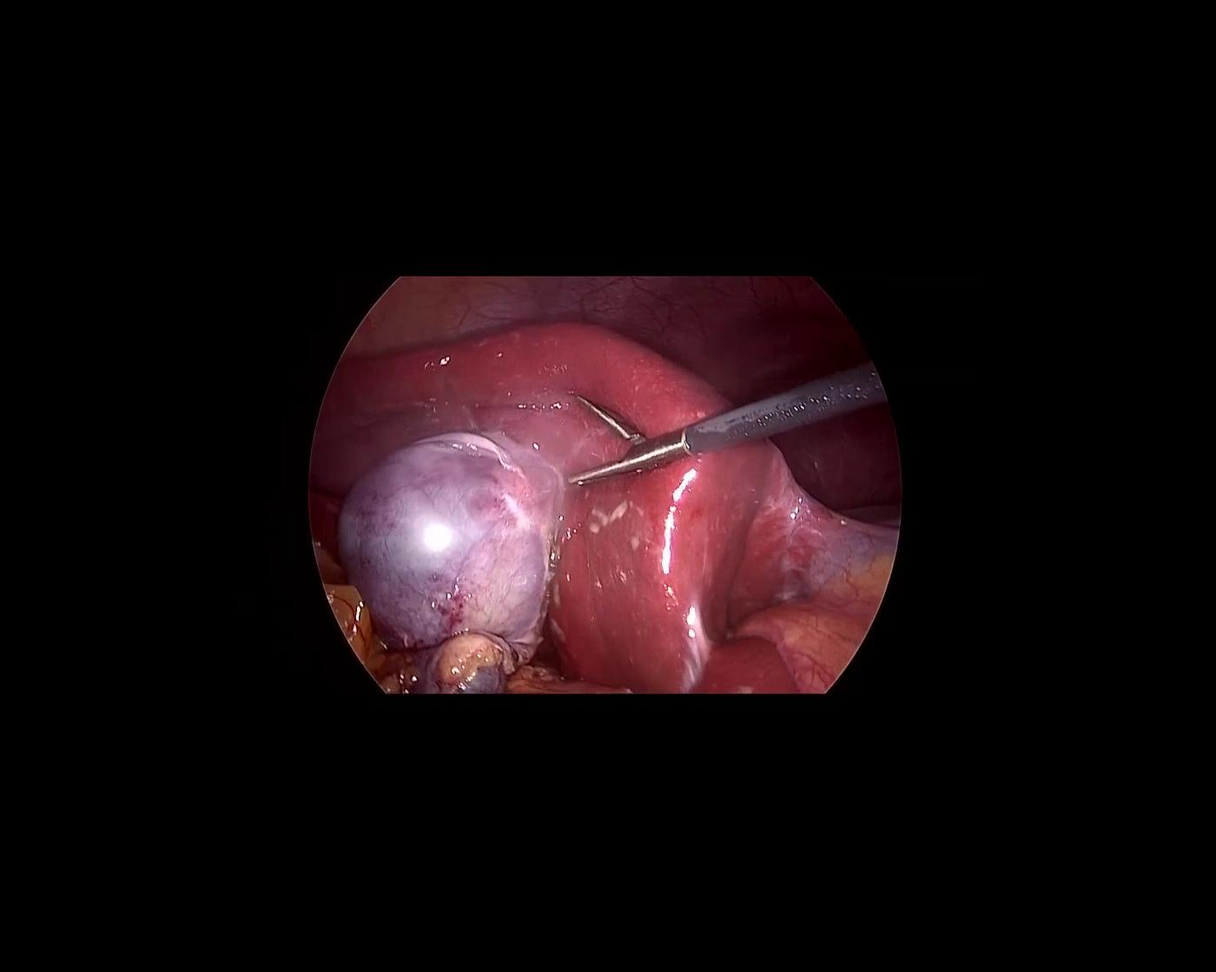Forceps: (544, 314, 888, 490)
Gallbladder: (318, 403, 572, 672)
Liver: (311, 322, 795, 693)
